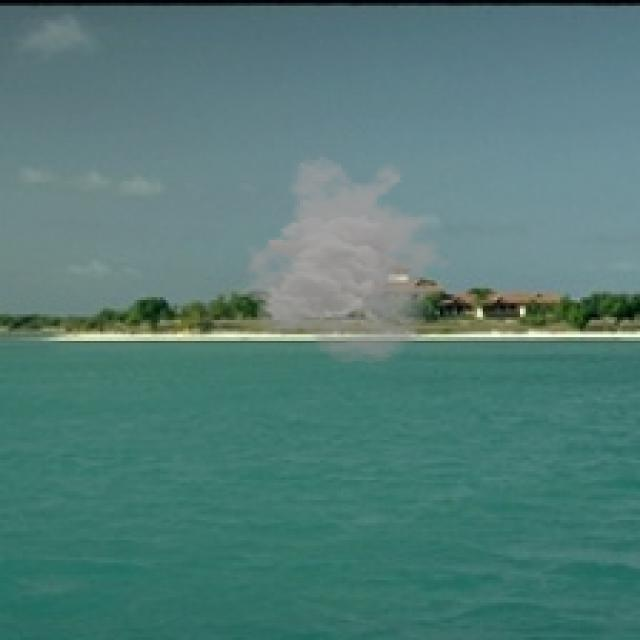smoke: (234, 154, 463, 366)
